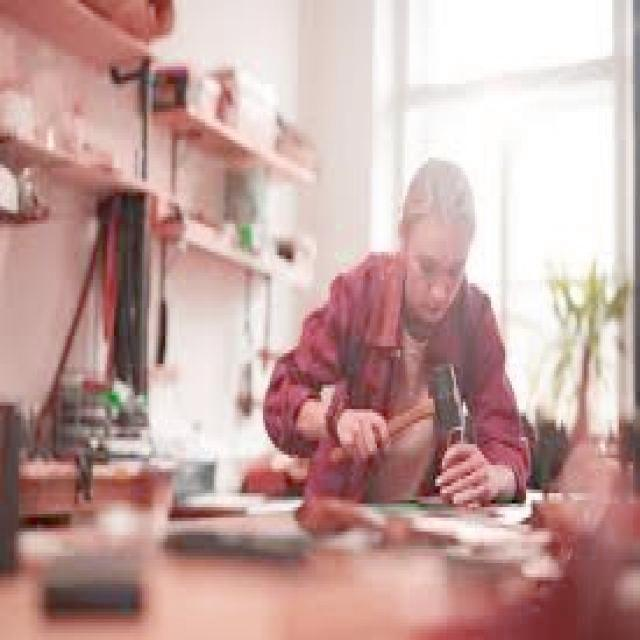hammer: (311, 357, 476, 482)
